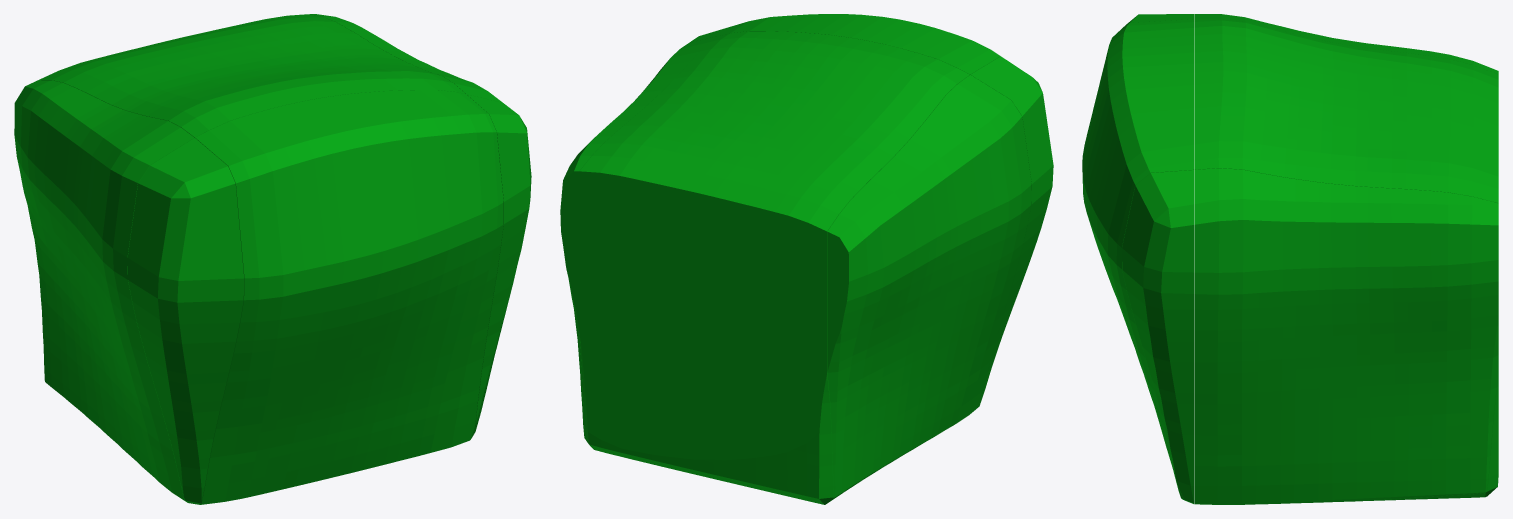
Rendered from 4by10beveledsubdivided.039.fbx.
3 views of the same model, side by side, from view 1: azimuth 30°, elevation 25°; view 2: azimuth 150°, elevation 25°; view 3: azimuth 270°, elevation 25° (orthographic). The views are drawn at different scales.
Visible parts, largest first — view 1: 4by10beveledsubdivided.039; view 2: 4by10beveledsubdivided.039; view 3: 4by10beveledsubdivided.039.
Part boxes in pixels (x1,y1,x2,y2): 4by10beveledsubdivided.039: [14, 14, 531, 504]; 4by10beveledsubdivided.039: [560, 14, 1053, 504]; 4by10beveledsubdivided.039: [1082, 14, 1498, 504].
Size of the model in its own units: 288 by 265 by 274.
